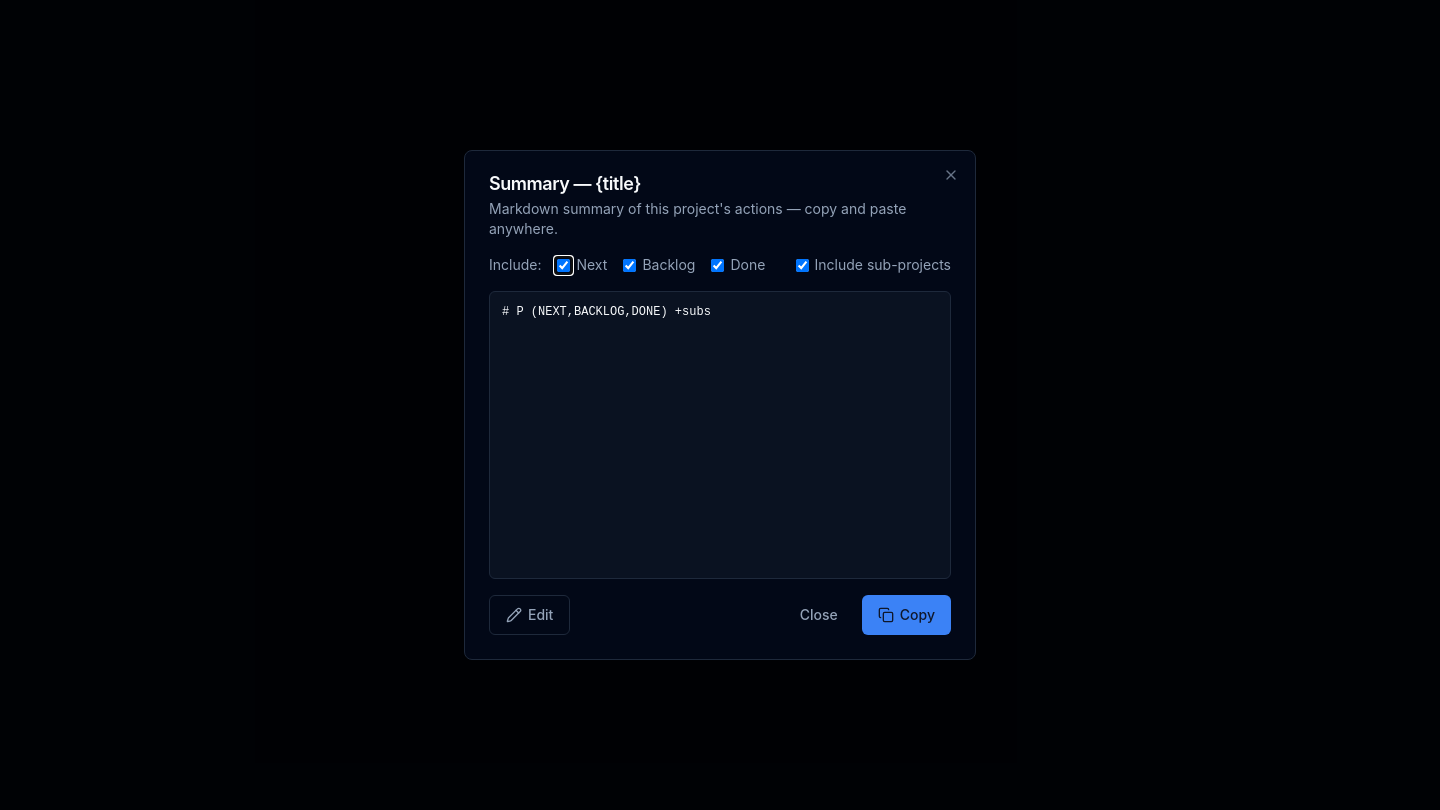
it: ProjectSummaryDialog › builds with Next+Backlog+Done by default (#987), regenerates when toggling Done, and copies
Expected: the text box named "Project summary (Markdown)" holds "# P (NEXT,BACKLOG,DONE) +subs", [489,291,951,579]
Note: Toggling Done off regenerates without DONE.
What coordinates should you click on to do the following:
click the checkbox labelled "Done"
I would click on:
 (718, 265)
Its box is [712,258,724,272].
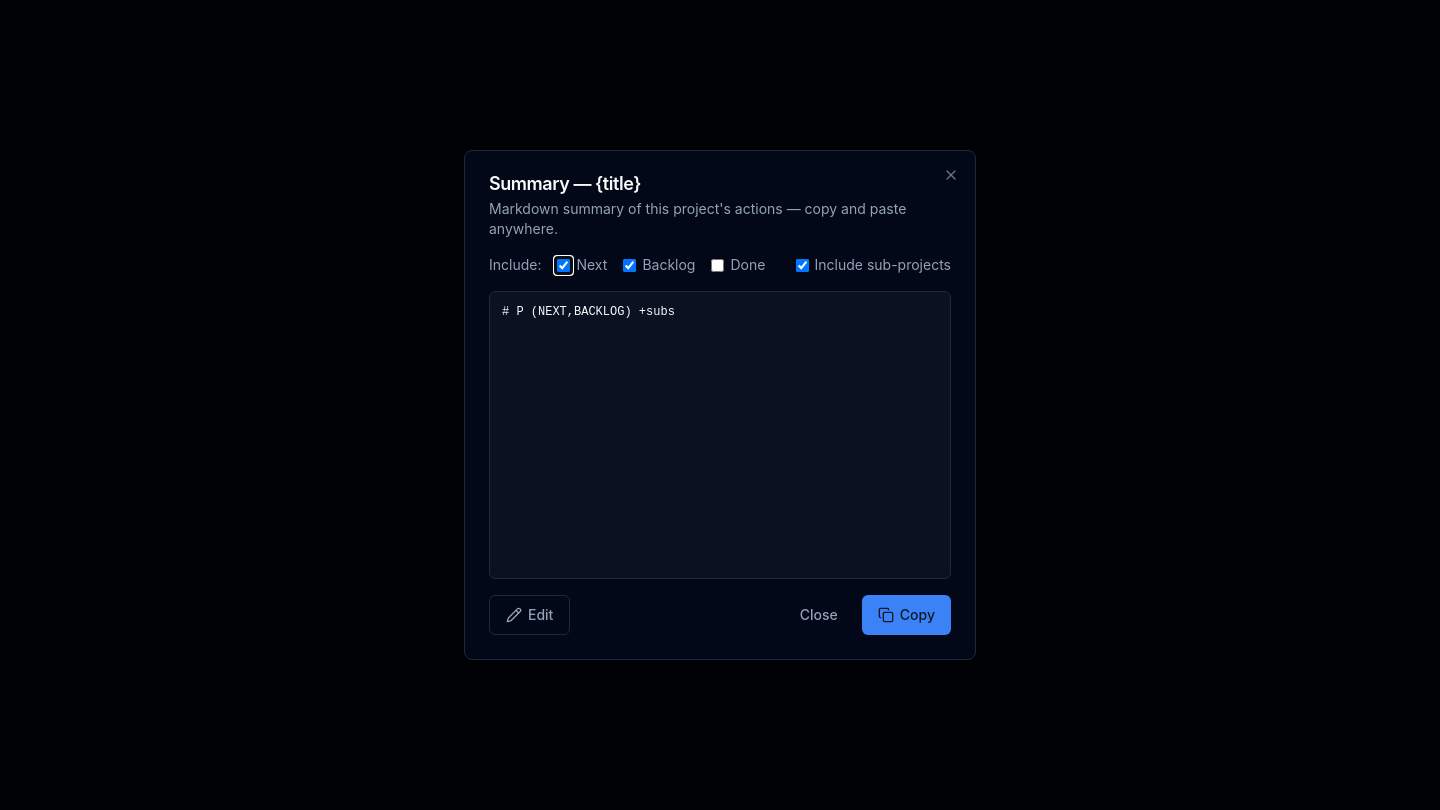
Expected: the text box named "Project summary (Markdown)" holds "# P (NEXT,BACKLOG) +subs", [489,291,951,579]
Note: Toggling off sub-projects drops them.
What coordinates should you click on to do the following:
click the checkbox labelled "Include sub-projects"
I would click on:
 (802, 265)
Its box is [796,258,808,272].
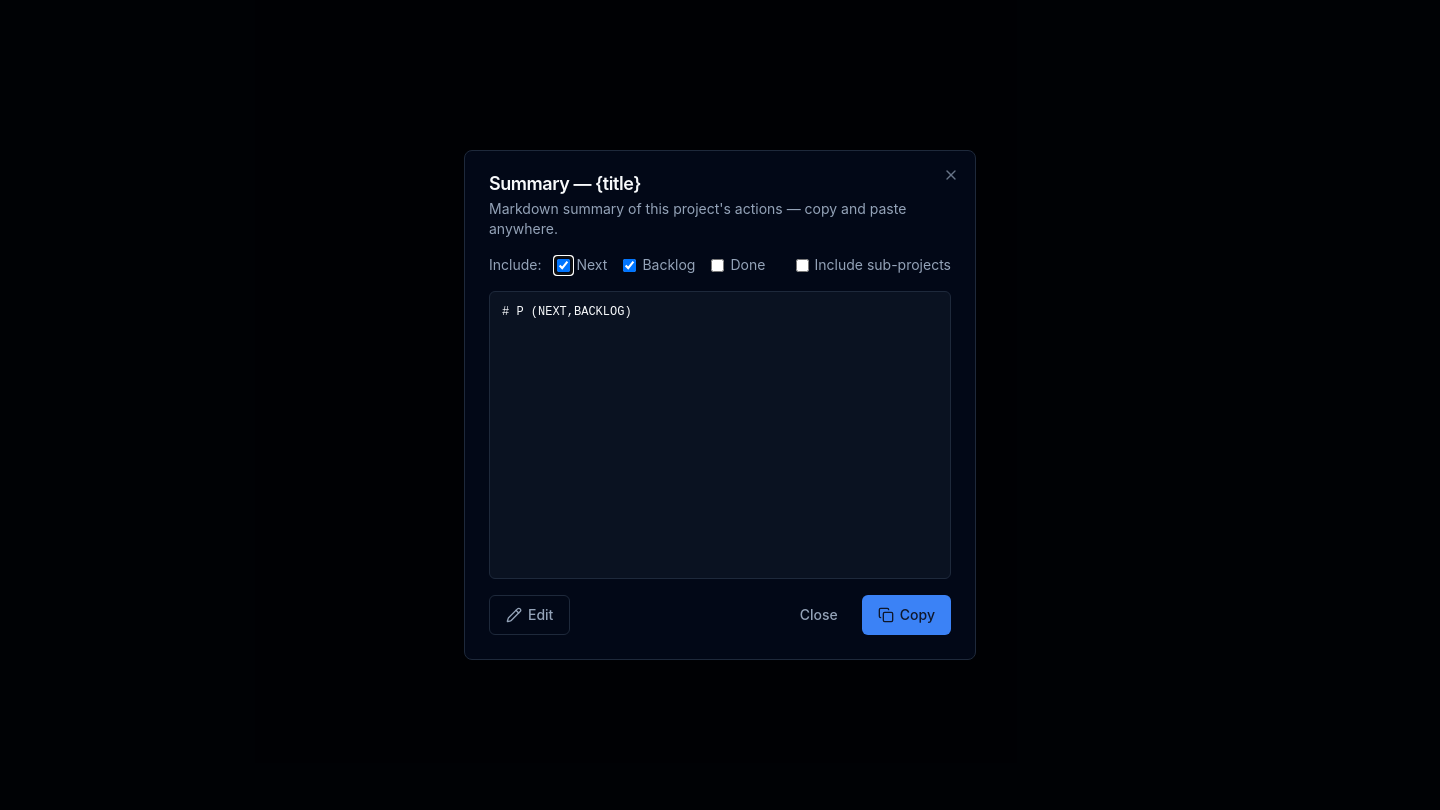
Expected: the text box named "Project summary (Markdown)" holds "# P (NEXT,BACKLOG)", [489,291,951,579]
Note: Copy writes the current markdown.
What coordinates should you click on to do the following:
click the button "Copy"
I would click on:
 (906, 615)
Its box is [862,595,951,635].
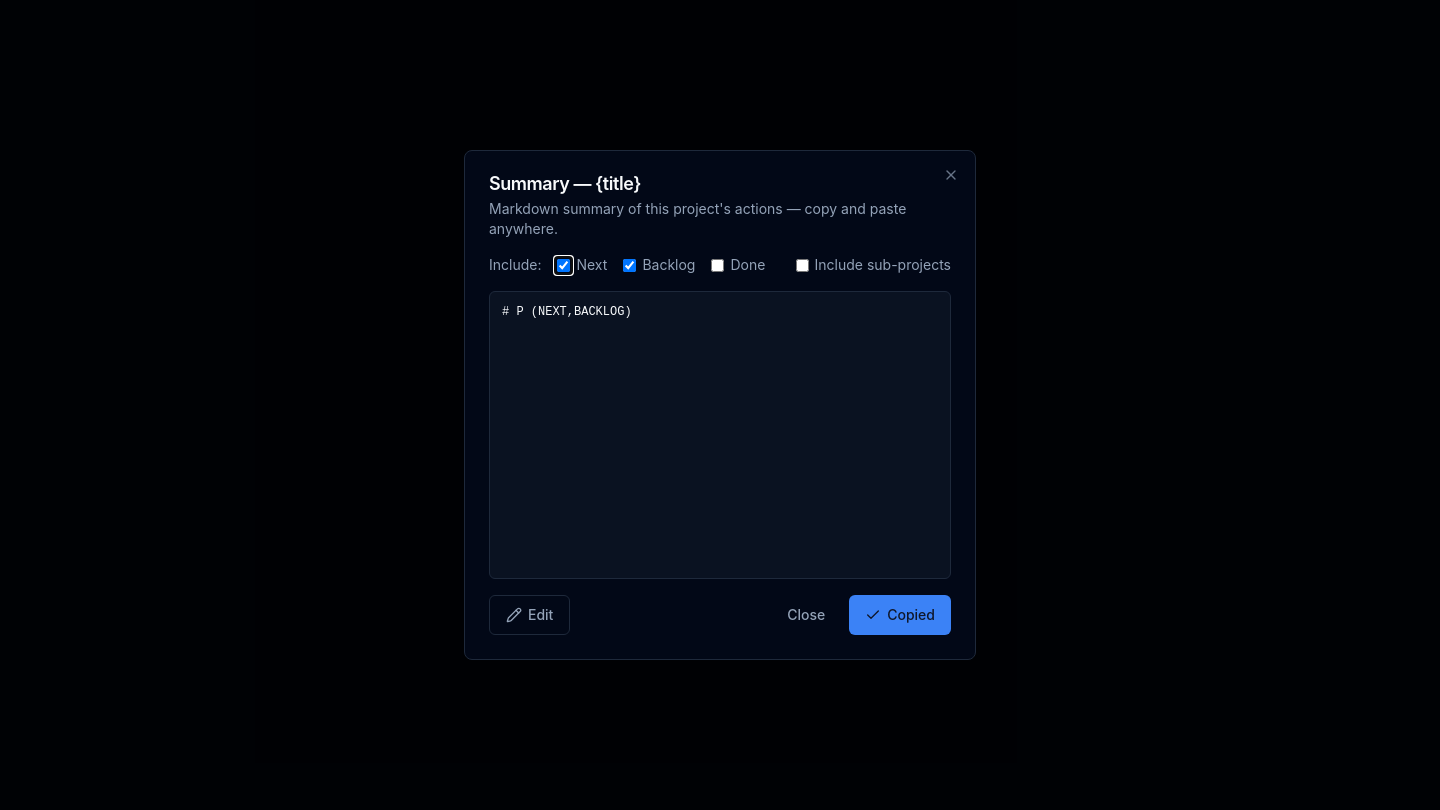
Expected: the button "Copied" is shown, [849,595,951,635]
